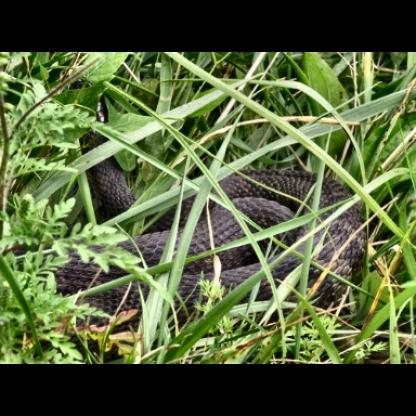Snake: (7, 121, 416, 302)
